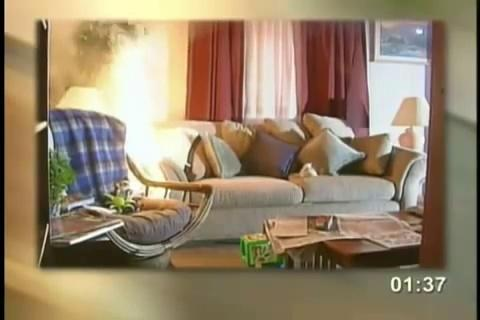fire: (63, 31, 210, 188)
